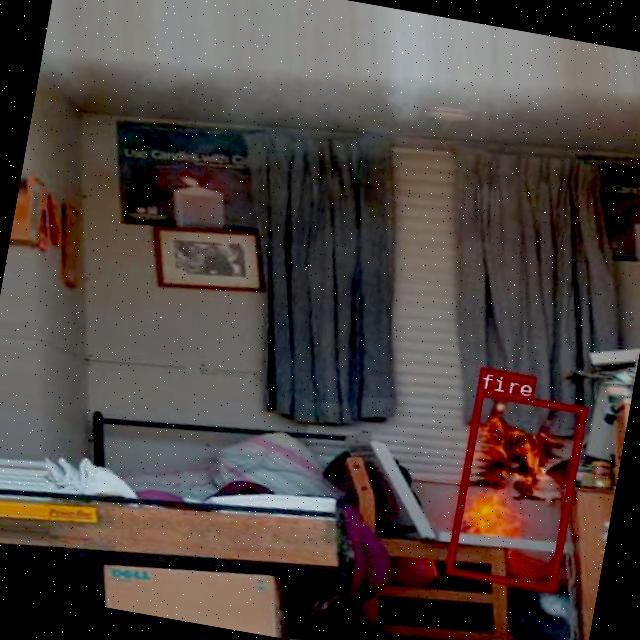fire: (443, 388, 586, 591)
